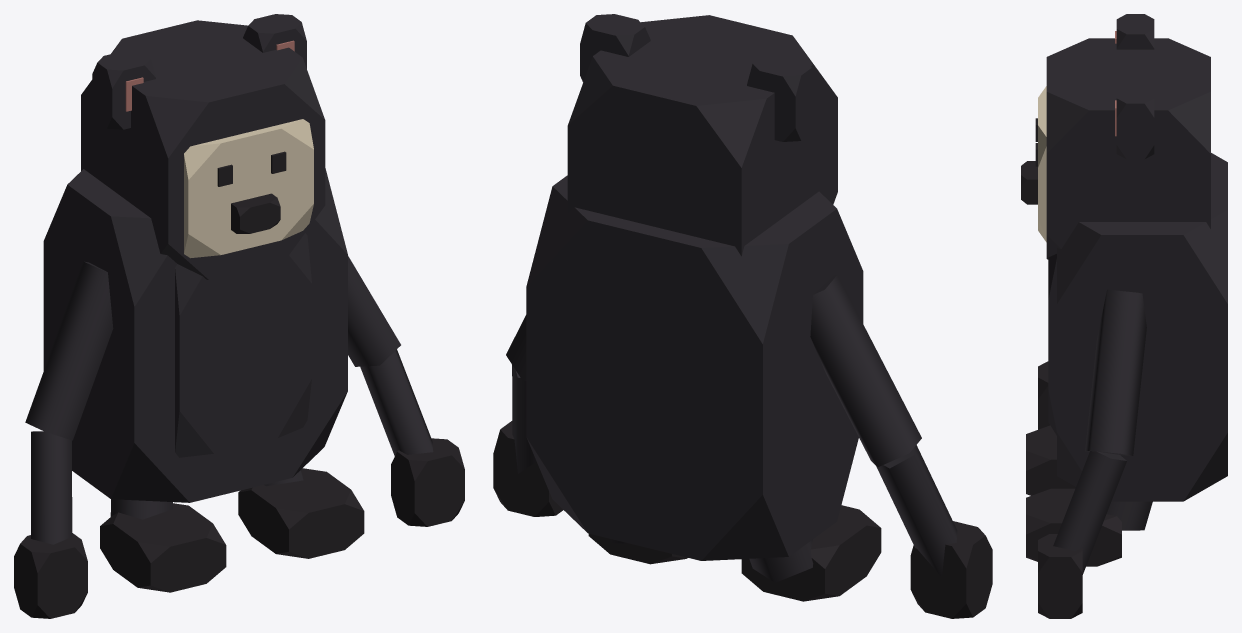
File: original-gibbon.glb
3 renders of one model, left to right at view 1: azimuth 30°, elevation 25°; view 2: azimuth 150°, elevation 25°; view 3: azimuth 270°, elevation 25°, orthographic. The views are drawn at different scales.
Visible parts, largest first — view 1: gibbon; view 2: gibbon; view 3: gibbon.
Part boxes in pixels (x1,y1,x2,y2): gibbon: (14,14,464,618); gibbon: (493,14,992,618); gibbon: (1021,14,1227,618).
Bounding box in the file's own units: 1.36 × 1.49 × 0.605.
